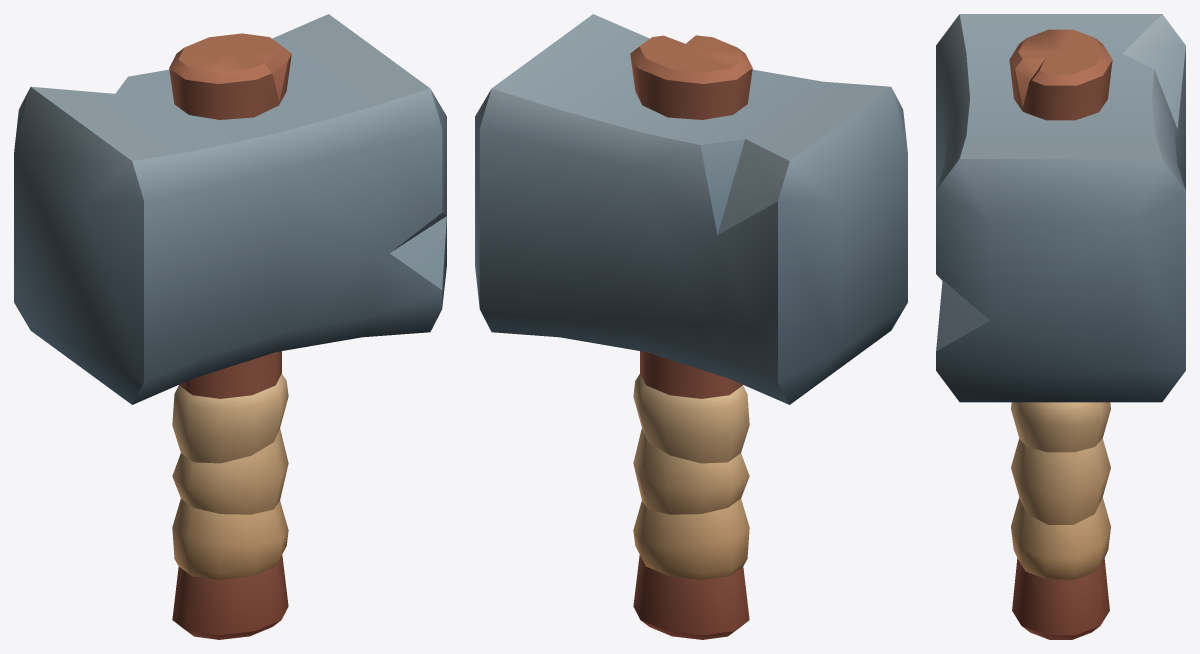
Rendered from hammer.glb.
The picture shows the model from 3 angles, left to right: view 1: azimuth 30°, elevation 25°; view 2: azimuth 150°, elevation 25°; view 3: azimuth 270°, elevation 25°; orthographic projection.
Visible parts, largest first — view 1: hammer; view 2: hammer; view 3: hammer.
Part boxes in pixels (box(x1,y1,x2,y2)): hammer: box(14, 14, 446, 639); hammer: box(475, 14, 907, 639); hammer: box(936, 14, 1185, 639).
Size of the model in its own units: 0.326 by 0.494 by 0.1956.
1 material, 1 textured.
